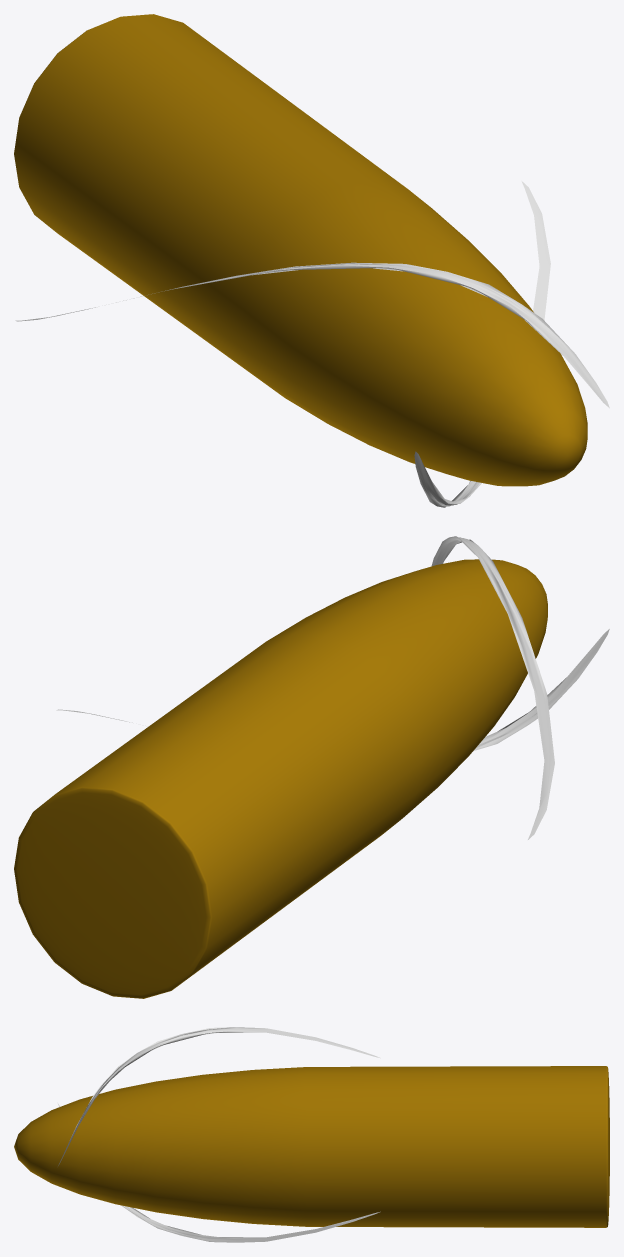
File: Bullet.fbx
The picture shows the model from 3 angles, top to bottom: view 1: azimuth 30°, elevation 25°; view 2: azimuth 150°, elevation 25°; view 3: azimuth 270°, elevation 25°; orthographic projection. The views are drawn at different scales.
Visible parts, largest first — view 1: pDisc3; view 2: pDisc3; view 3: pDisc3.
Boxes of the visible parts, x1=… form: pDisc3: x1=14, y1=14, x2=609, y2=507; pDisc3: x1=14, y1=536, x2=609, y2=998; pDisc3: x1=14, y1=1027, x2=609, y2=1242.
Bounding box in the file's own units: 4.79 × 2.12 × 7.31.
